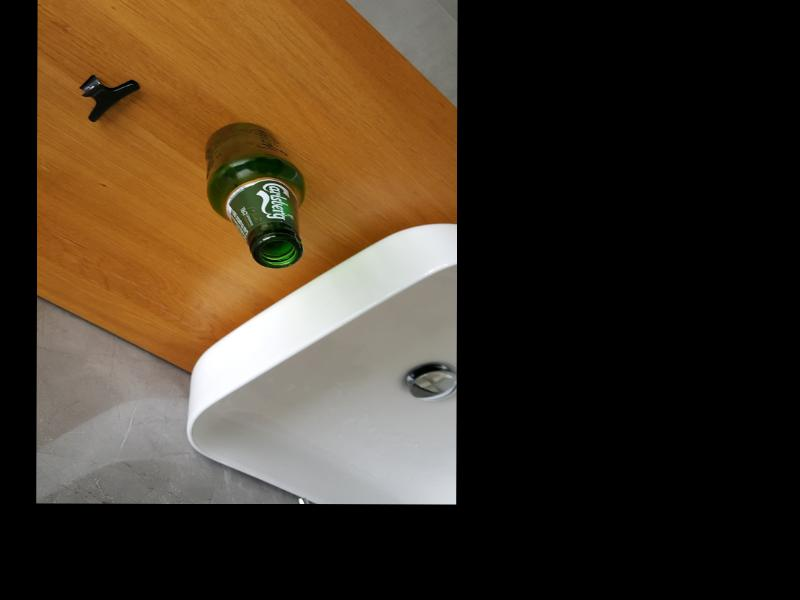Beer: (206, 121, 303, 267)
